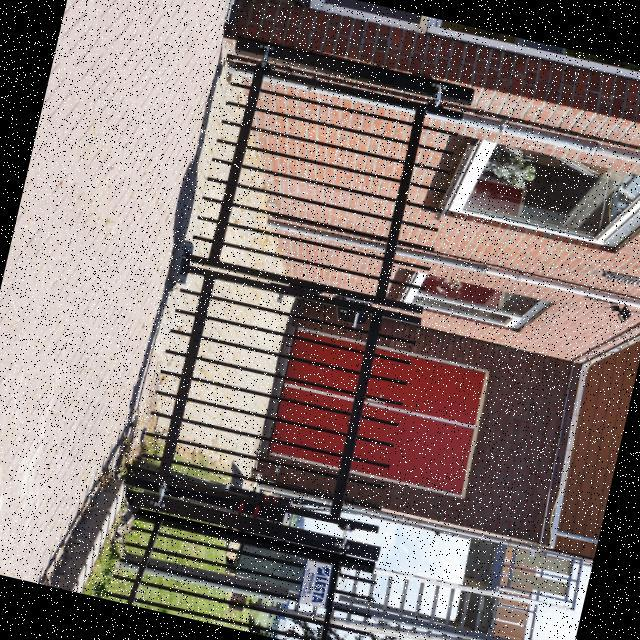fence line: (111, 47, 478, 639)
